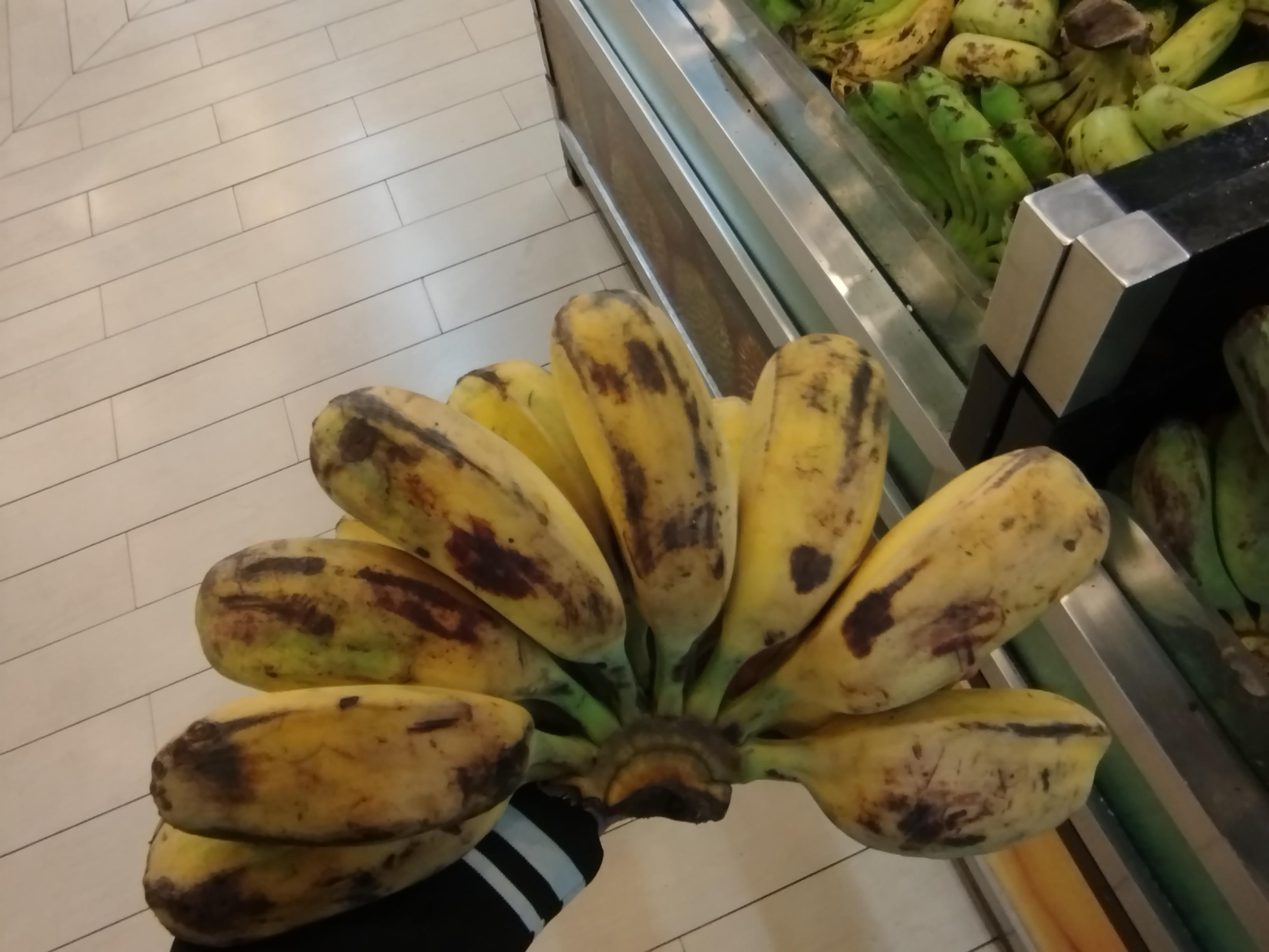ripe: (143, 289, 1110, 945)
